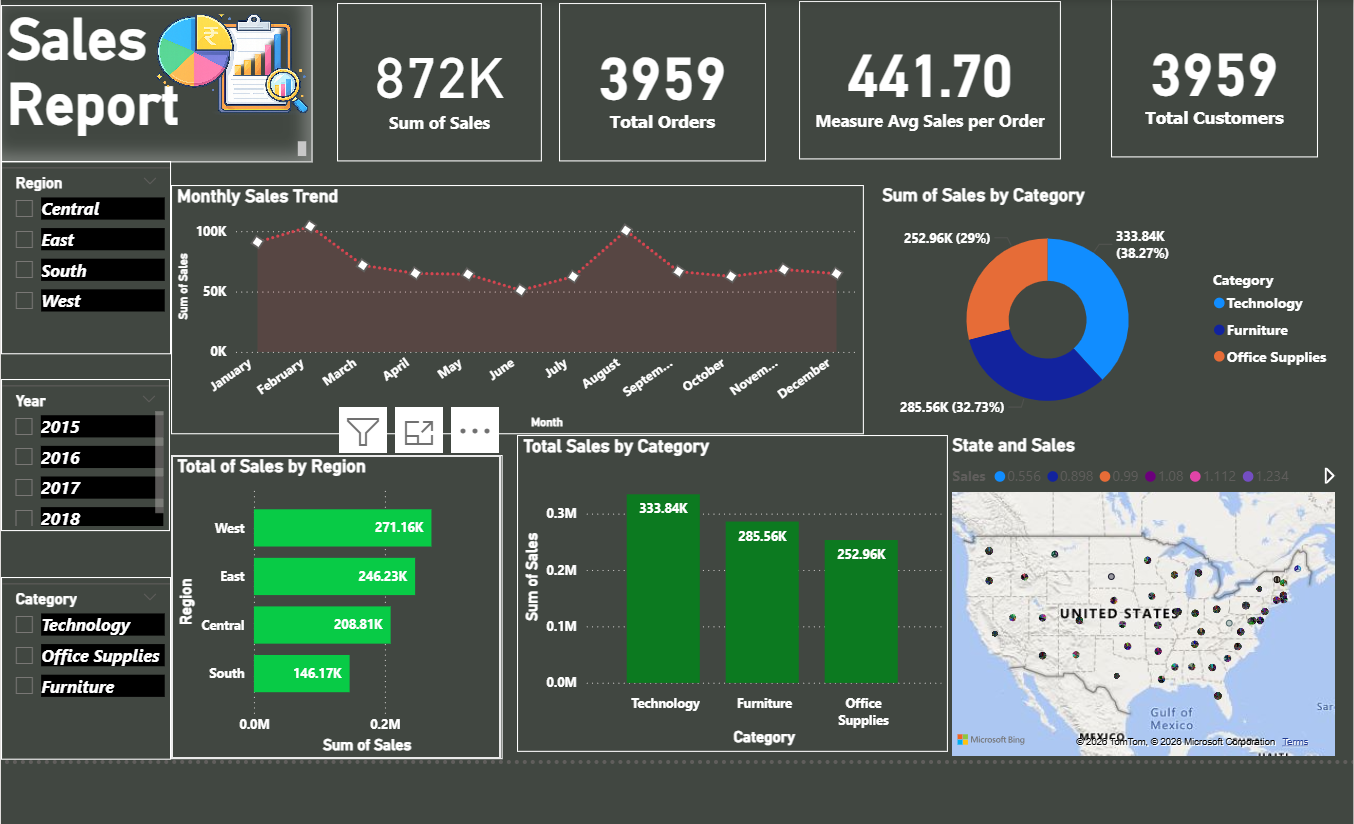

The dashboard page shown, as its layout file describes it:
{"tool":"powerbi","page":{"name":"Page 1","canvas":[1280,720],"ordinal":0},"visuals":[{"type":"card","fields":{"Values":["Sum(train.Sales)"]},"box":[318,4,194,150],"z":0},{"type":"card","fields":{"Values":["CountNonNull(train.Order ID)"]},"box":[528,4,196,150],"z":1000},{"type":"card","fields":{"Values":["train.Measure Avg Sales per Order"]},"box":[756,2,248,150],"z":2000},{"type":"card","fields":{"Values":["CountNonNull(train.Customer ID)"]},"box":[1050,0,196,150],"z":3000},{"type":"lineChart","title":"Monthly Sales Trend","fields":{"Y":["Sum(train.Sales)"],"Category":["train.Order Date.Variation.Date Hierarchy.Month"]},"box":[160,176,656,236],"z":4000},{"type":"clusteredBarChart","title":"Total of Sales by Region","fields":{"Category":["train.Region"],"Y":["Sum(train.Sales)"]},"box":[160,432,314,288],"z":5000},{"type":"clusteredColumnChart","title":"Total Sales by Category","fields":{"Category":["train.Category"],"Y":["Sum(train.Sales)"]},"box":[488,412,408,300],"z":6000},{"type":"donutChart","fields":{"Y":["Sum(train.Sales)"],"Category":["train.Category"]},"box":[830,176,440,236],"z":7000},{"type":"map","fields":{"Series":["train.Sales"],"Category":["train.State"]},"box":[896,412,372,308],"z":8000},{"type":"slicer","fields":{"Values":["train.Region"]},"box":[0,153.7,161,182.9],"z":9000},{"type":"slicer","fields":{"Values":["train.Order Date.Variation.Date Hierarchy.Year"]},"box":[0,360,160,144],"z":10000},{"type":"slicer","fields":{"Values":["train.Category"]},"box":[0,546.3,161,173.2],"z":11000},{"type":"textbox","title":"Sales Report ","box":[0,4.9,295.1,148.8],"z":12000},{"type":"image","box":[80.5,9.8,270.7,131.7],"z":13000}]}

Visuals, with their boxes in screenshot pixels (x1, y1, x2, y2):
card - Sum(train.Sales): [332, 4, 534, 161]
card - CountNonNull(train.Order ID): [551, 4, 755, 161]
card - train.Measure Avg Sales per Order: [789, 2, 1047, 159]
card - CountNonNull(train.Customer ID): [1095, 0, 1300, 156]
"Monthly Sales Trend" lineChart: [167, 184, 851, 430]
"Total of Sales by Region" clusteredBarChart: [167, 451, 494, 751]
"Total Sales by Category" clusteredColumnChart: [509, 430, 935, 743]
donutChart - Sum(train.Sales) x train.Category: [866, 184, 1325, 430]
map - train.Sales x train.State: [935, 430, 1323, 751]
slicer - train.Region: [0, 160, 168, 351]
slicer - train.Order Date.Variation.Date Hierarchy.Year: [0, 376, 167, 526]
slicer - train.Category: [0, 570, 168, 751]
"Sales Report " textbox: [0, 5, 308, 160]
image: [84, 10, 366, 148]
